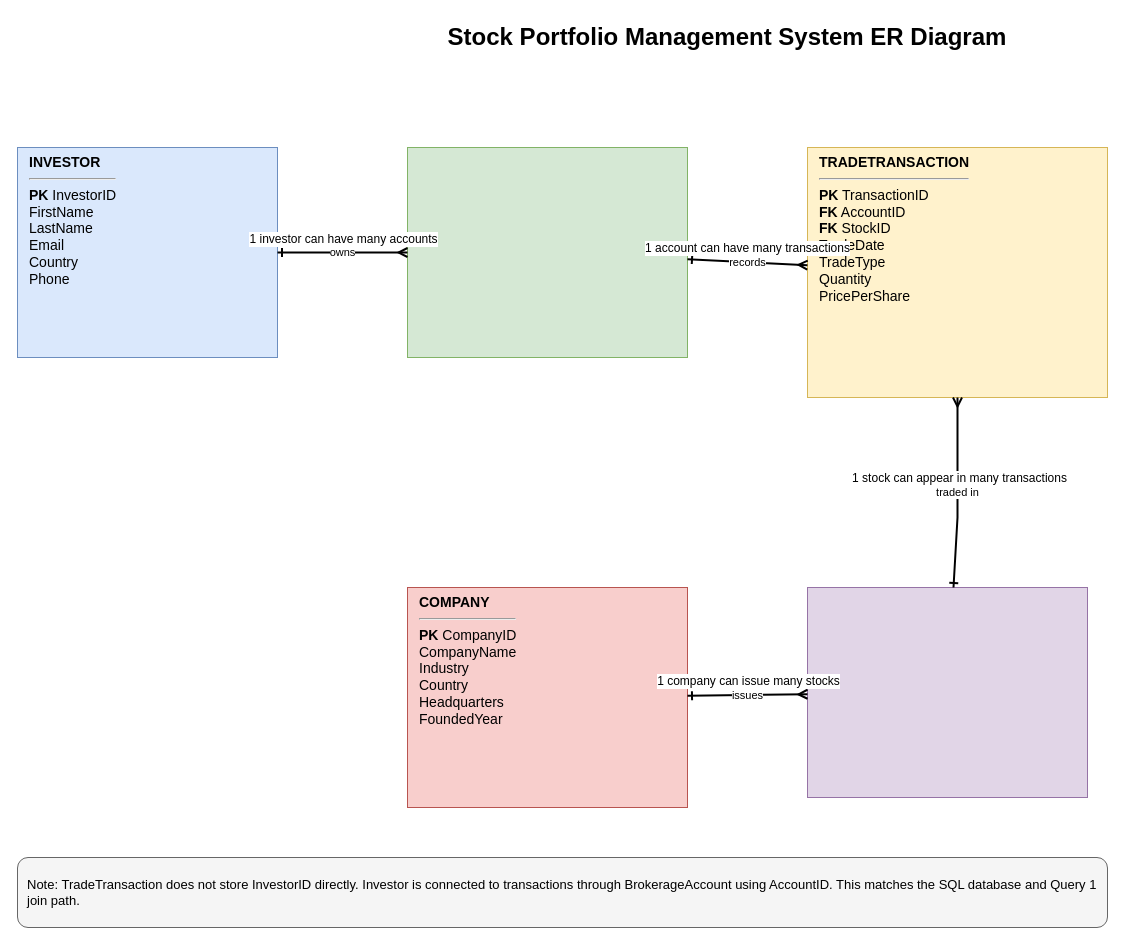
The diagram is 1125 pixels wide and 945 high, and some of its shapes have lost their labels. Here are the shapes that lost their labels. From the top down, the box of each, then its label:
(406, 146, 688, 358): BROKERAGEACCOUNT PK AccountID FK InvestorID AccountType BrokerName Balance
(806, 586, 1088, 798): STOCK PK StockID FK CompanyID TickerSymbol ExchangeName CurrentPrice
